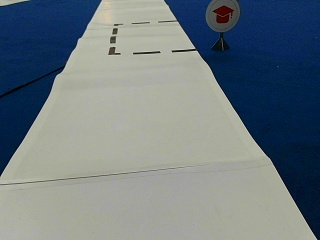school: (204, 1, 240, 32)
